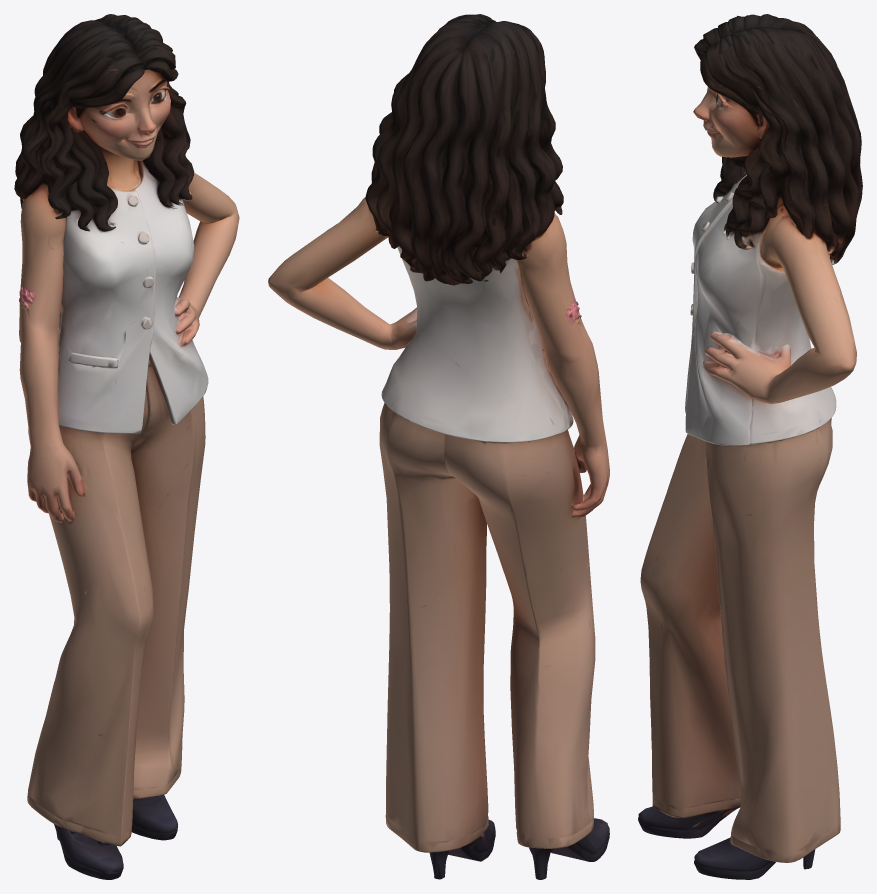
File: mona.optimized.glb
The picture shows the model from 3 angles, left to right: view 1: azimuth 30°, elevation 25°; view 2: azimuth 150°, elevation 25°; view 3: azimuth 270°, elevation 25°; orthographic projection. The views are drawn at different scales.
Visible parts, largest first — view 1: mona; view 2: mona; view 3: mona.
Boxes of the visible parts, <box> form: mona: <box>14,14,239,879</box>; mona: <box>268,14,609,879</box>; mona: <box>638,14,862,879</box>.
Bounding box in the file's own units: 0.3918 × 1.14 × 0.2774.
Materials: 1 (1 with a texture image).
